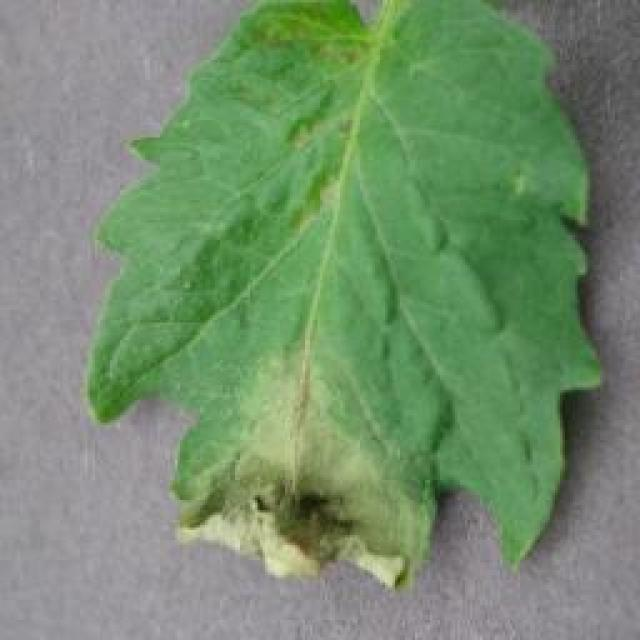Tomato late blight leaf: (78, 0, 603, 602)
